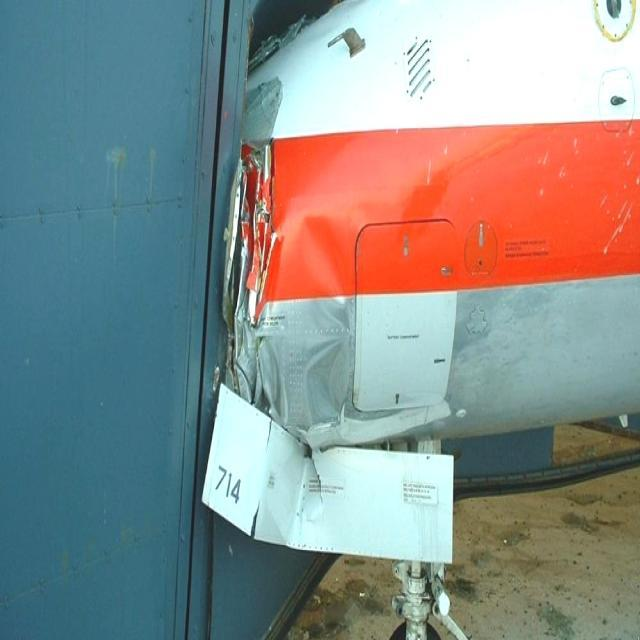dent: (298, 216, 352, 422)
